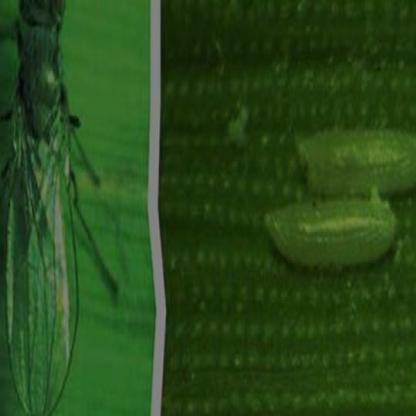whorl-maggot: (259, 192, 401, 270), (293, 127, 416, 197)
